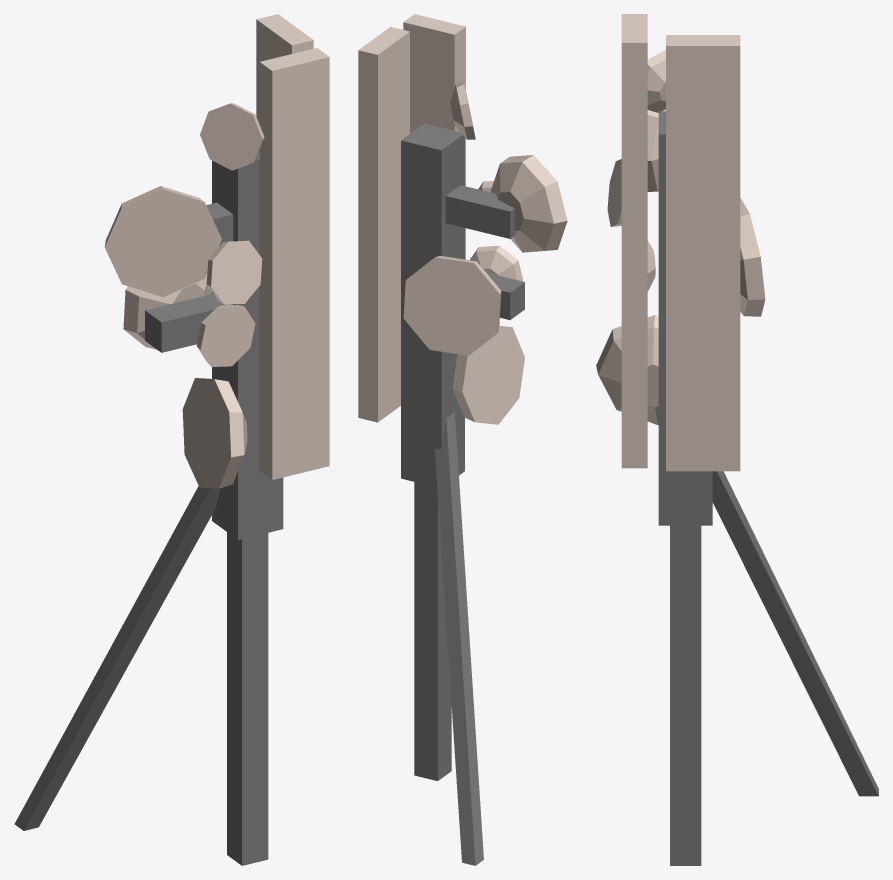
Rendered from small Tower.fbx.
The picture shows the model from 3 angles, left to right: view 1: azimuth 30°, elevation 25°; view 2: azimuth 150°, elevation 25°; view 3: azimuth 270°, elevation 25°; orthographic projection. The views are drawn at different scales.
Visible parts, largest first — view 1: Cube.005; view 2: Cube.005; view 3: Cube.005.
Boxes of the visible parts, bbox=[...] form: Cube.005: bbox=[14, 14, 329, 865]; Cube.005: bbox=[358, 14, 567, 865]; Cube.005: bbox=[596, 14, 878, 865].
Size of the model in its own units: 244 by 932 by 283.
